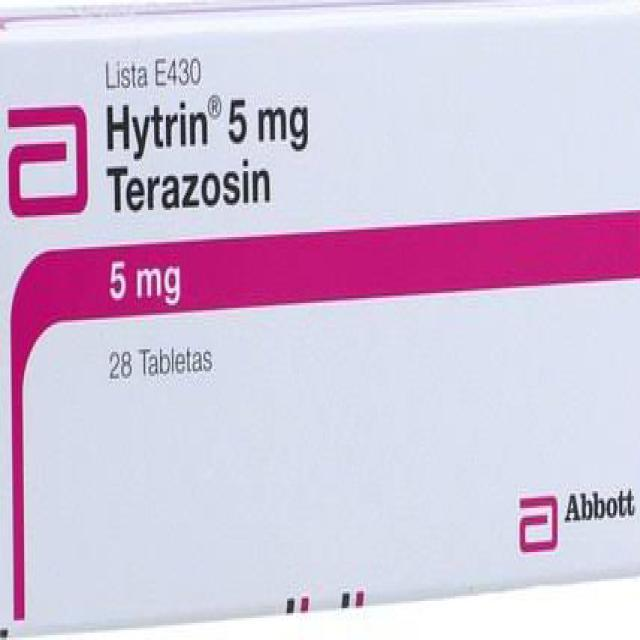drug-name: (104, 96, 211, 162)
